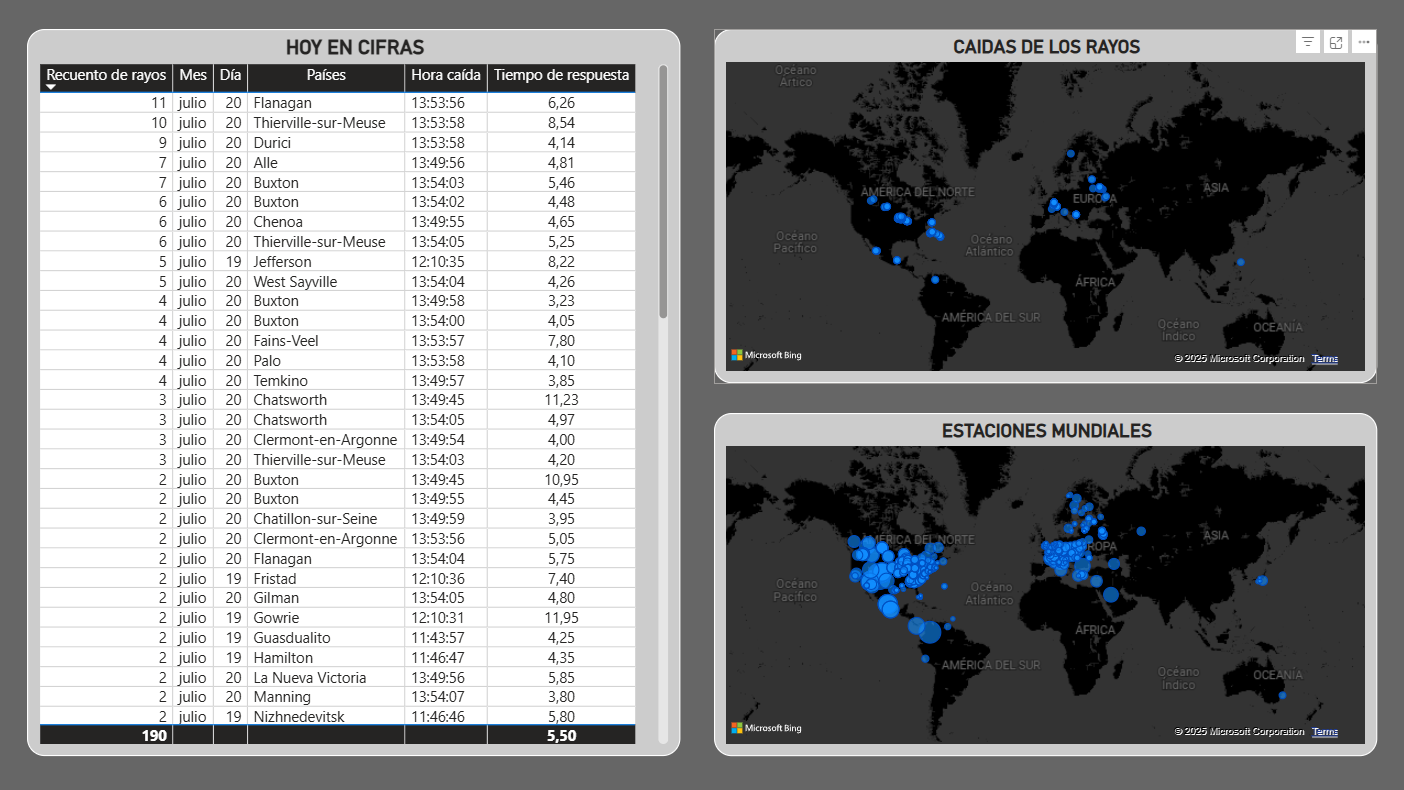

The dashboard page shown, as its layout file describes it:
{"tool":"powerbi","page":{"name":"Main","canvas":[1280,720],"ordinal":0},"visuals":[{"type":"tableEx","title":"HOY EN CIFRAS","fields":{"Values":["rayos.id","rayos.fecha.Variación.Jerarquía de fechas.Mes","rayos.fecha.Variación.Jerarquía de fechas.Día","rayos.pais","rayos.hora","Avg(rayos.delay)"]},"box":[24.4,26.7,594.4,661.1],"z":0},{"type":"map","title":"ESTACIONES MUNDIALES","fields":{"Y":["estaciones.lat"],"X":["estaciones.lon"],"Size":["Median(estaciones.alt)"]},"box":[648.9,375.6,603.3,312.2],"z":1000},{"type":"map","title":"CAIDAS DE LOS RAYOS","fields":{"Y":["rayos.lat"],"X":["rayos.lon"]},"box":[648.9,26.7,603.3,322.2],"z":2000}]}

Visuals, with their boxes in screenshot pixels (x1, y1, x2, y2), scaled from the page's 1280x720 canvas onto the 1404x790 screenshot:
"HOY EN CIFRAS" tableEx: 27:29:679:755
"ESTACIONES MUNDIALES" map: 712:412:1374:755
"CAIDAS DE LOS RAYOS" map: 712:29:1374:383
